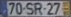0: (15, 1, 22, 14)
2: (45, 1, 54, 15)
7: (8, 2, 15, 15), (53, 2, 60, 15)
R: (33, 2, 43, 15)
S: (24, 1, 34, 15)
